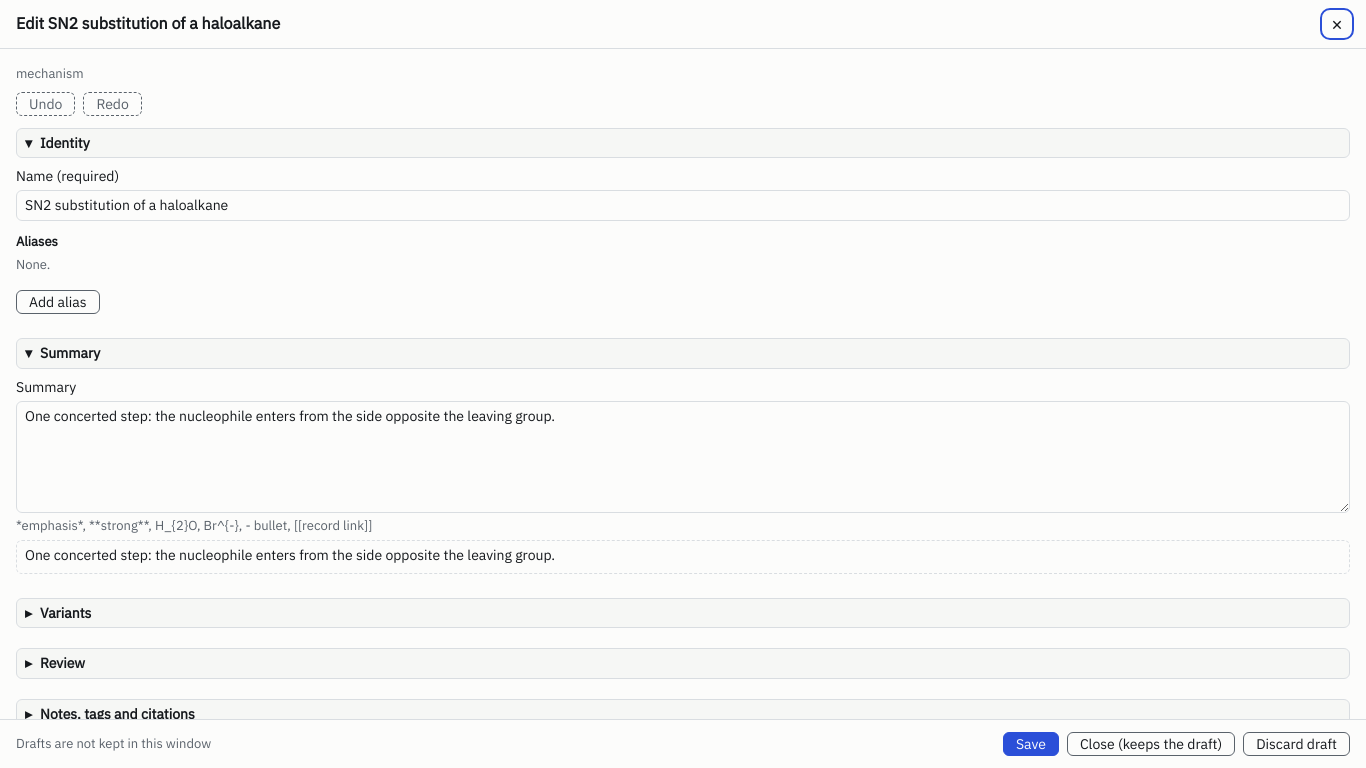
on a phone › step rows carry the phone flag so they stack
Step 1. Click the button "▸ Variants" → (66, 613), box [16,598,1350,628]
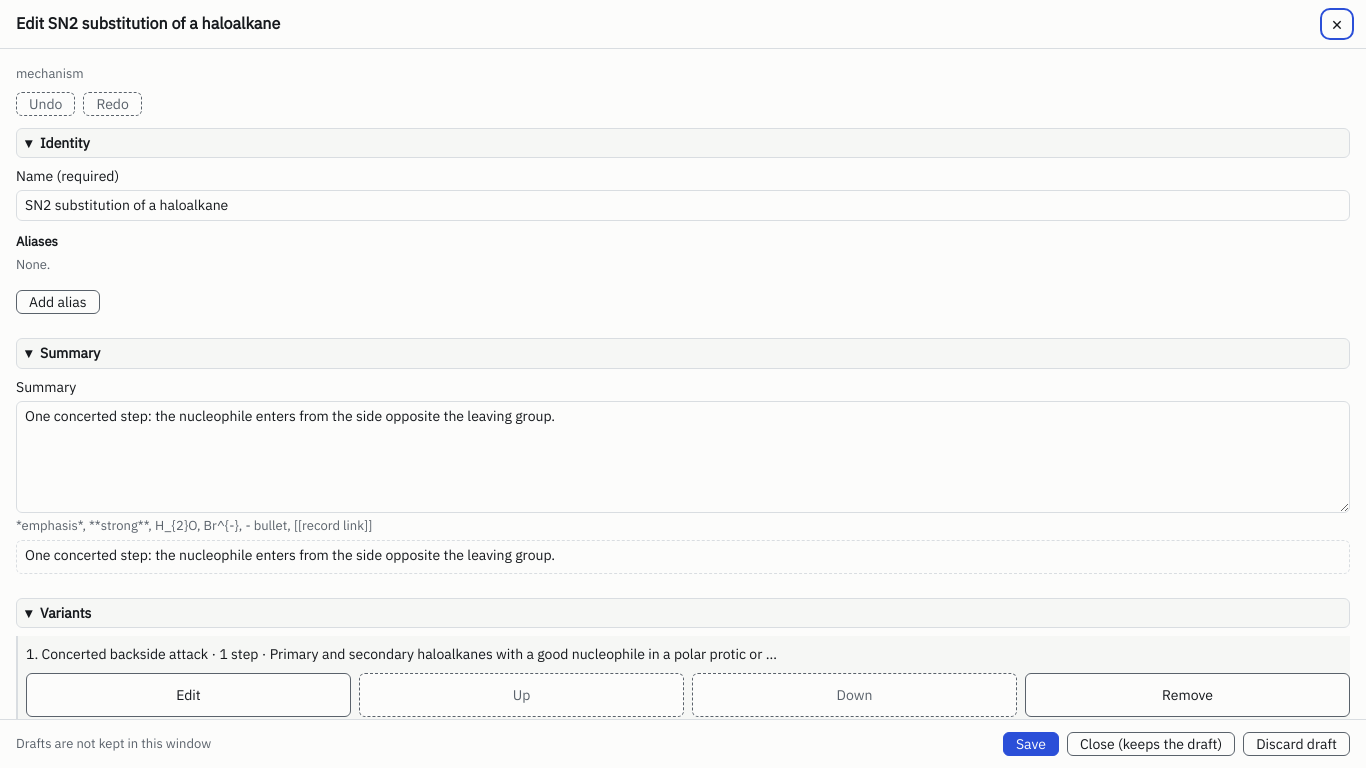
Step 2. Click the button "Edit" → (188, 695), box [26,673,351,717]
(page scrolled)
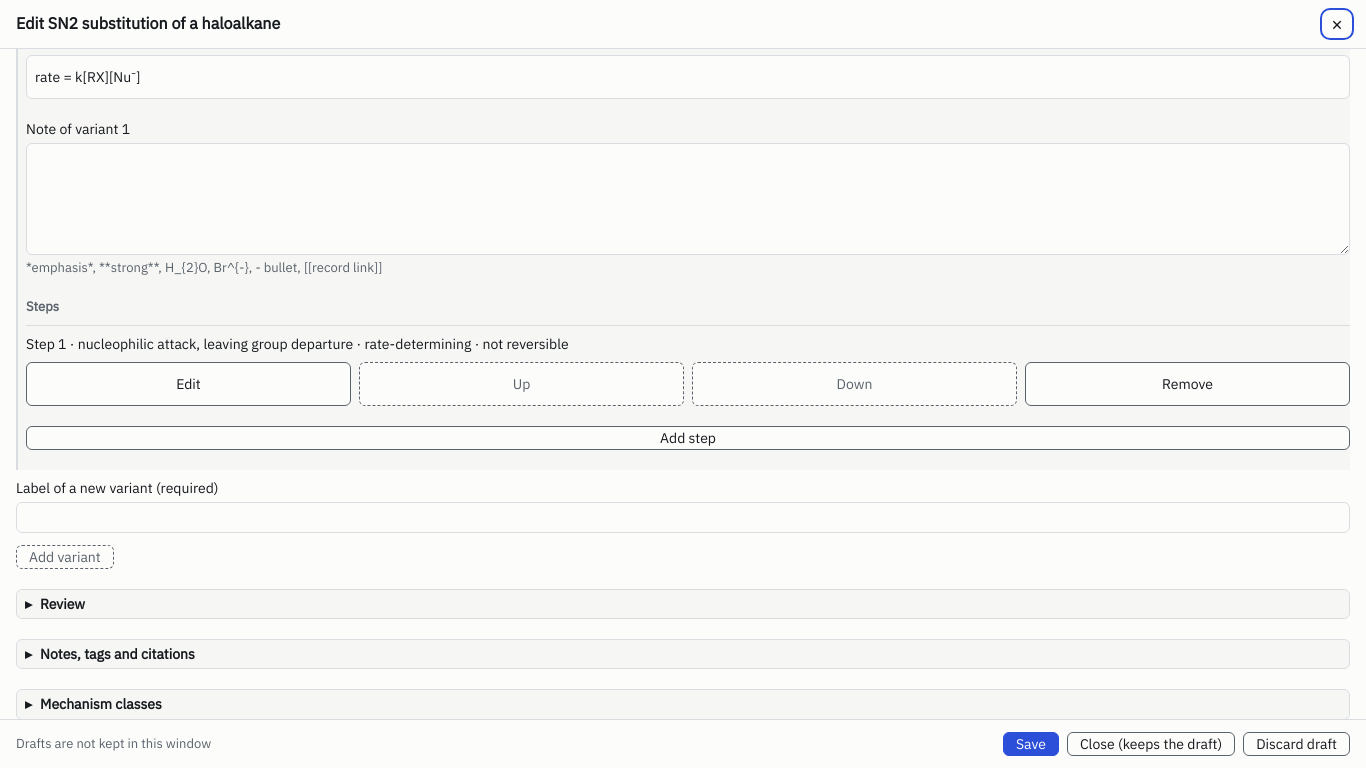
Expected: the list item with test id "step-row" is shown, [26,325,1350,414]
Step 3. Click the button with aria-label "Edit step 1" → (188, 384), box [26,362,351,406]
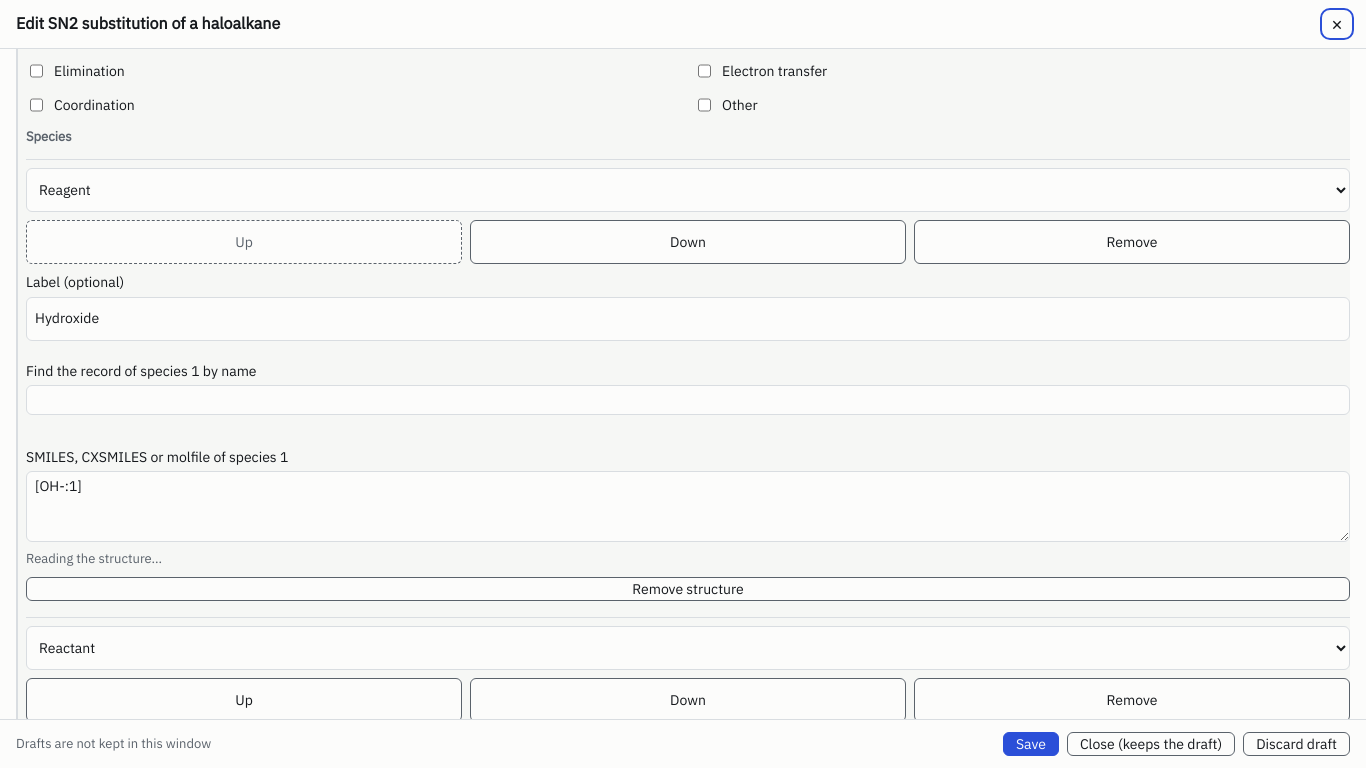
Expected: the list item with test id "species-row" that starts with "Down" is shown, [26,159,1350,609]
